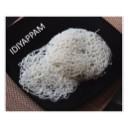idiyappam: (48, 26, 110, 74), (19, 52, 74, 98)
